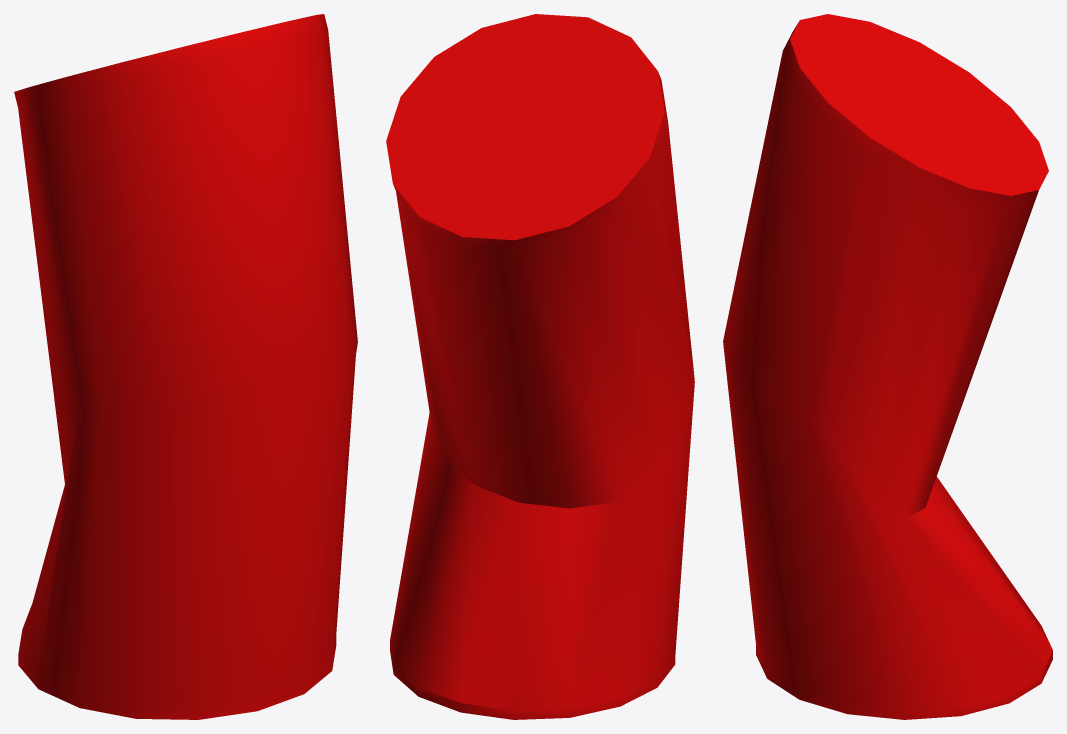
The model's file is TECan.fbx.
3 views of the same model, side by side, from view 1: azimuth 30°, elevation 25°; view 2: azimuth 150°, elevation 25°; view 3: azimuth 270°, elevation 25° (orthographic). The views are drawn at different scales.
Parts seen in each view (by area): view 1: Cylinder.001; view 2: Cylinder.001; view 3: Cylinder.001.
Boxes of the visible parts, x1,y1,x2,y2 form: Cylinder.001: (14,14,357,719); Cylinder.001: (386,14,694,719); Cylinder.001: (723,14,1052,719).
Size of the model in its own units: 35.47 by 81.81 by 39.41.
